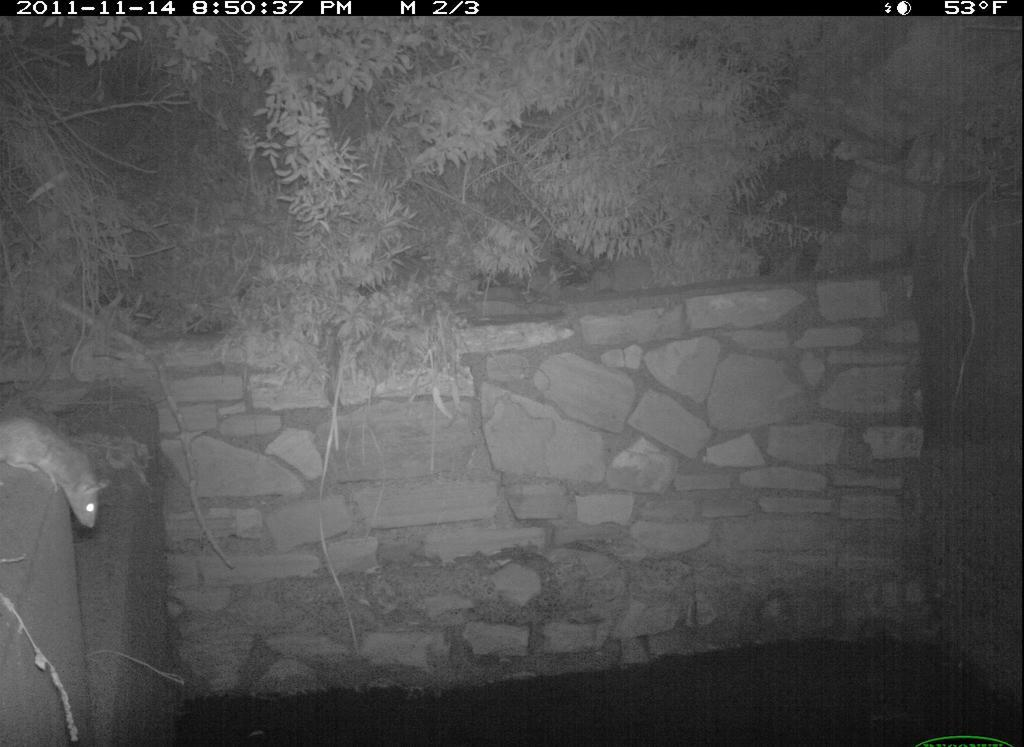rodent: (5, 411, 113, 535)
